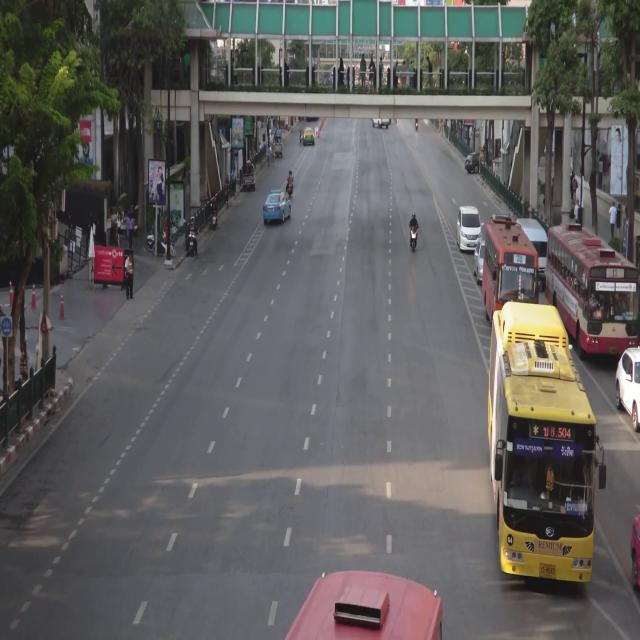bus: (487, 313, 594, 586), (548, 224, 640, 358), (288, 576, 439, 640), (486, 217, 538, 310)
car: (516, 218, 547, 287), (616, 349, 640, 433), (457, 206, 481, 251), (630, 501, 640, 600), (475, 240, 485, 284), (466, 149, 481, 174), (241, 166, 256, 191), (273, 135, 283, 158), (370, 117, 391, 127)
pedestrian: (126, 254, 134, 301), (128, 213, 134, 252), (115, 213, 122, 246), (570, 170, 577, 202), (610, 203, 615, 240), (617, 201, 621, 237), (574, 197, 579, 221), (232, 167, 236, 194), (267, 142, 270, 169), (226, 174, 229, 201), (263, 128, 267, 145)
taxi: (265, 190, 292, 225), (304, 129, 315, 145)
